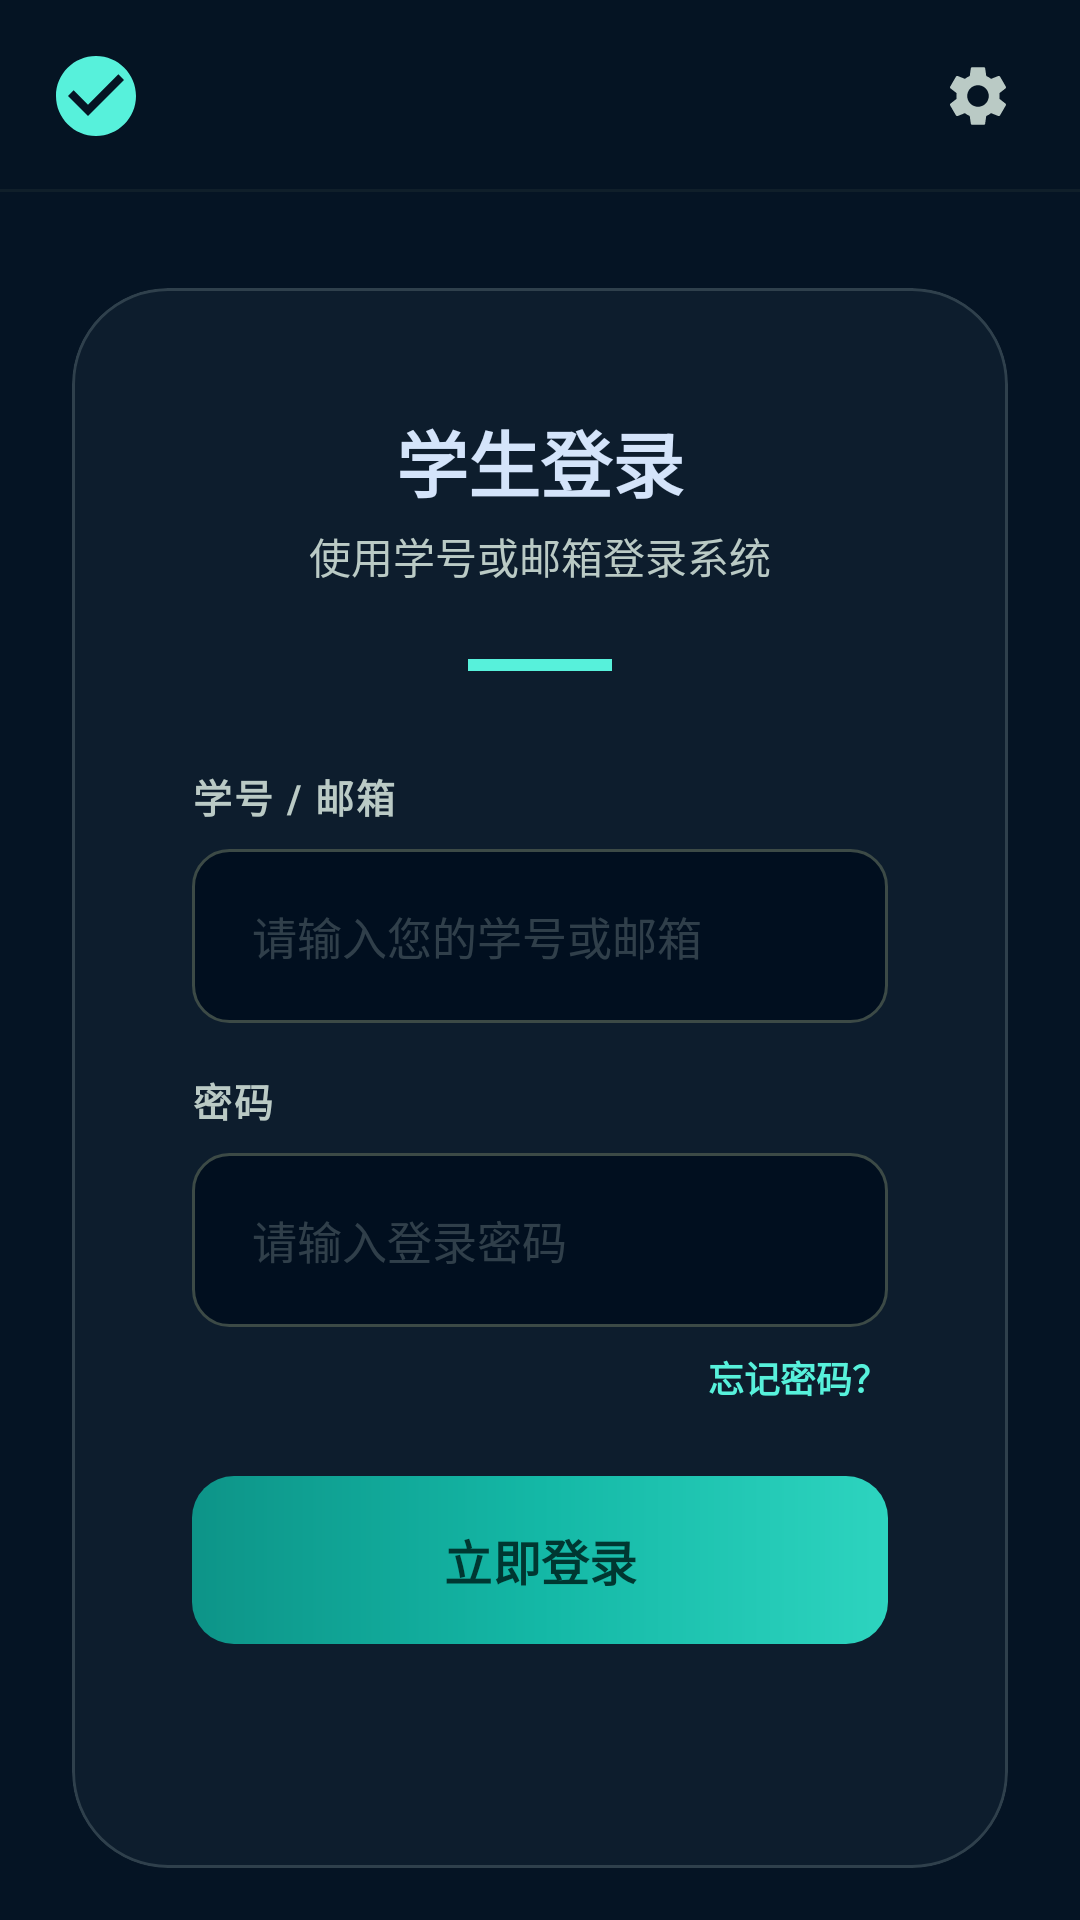

Point at icon controls on the screen. Image size 1080w x 1920h, points as point (x, y).
服务器设置: point (978, 96)
